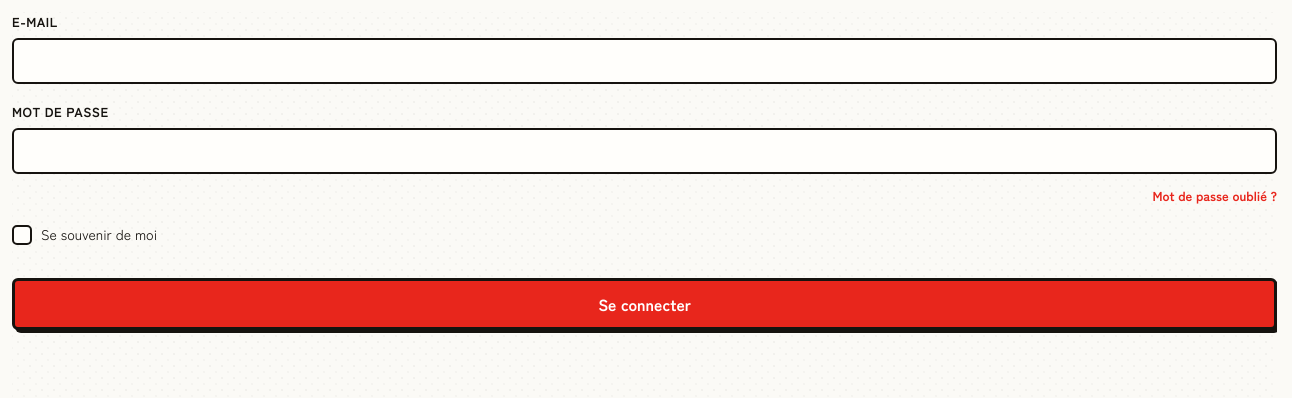
it: LoginForm › shows French validation errors on empty submit
This screenshot has width=1292, height=398.
Click the button "Se connecter" at {"x": 644, "y": 304}, box [12,278,1277,330]
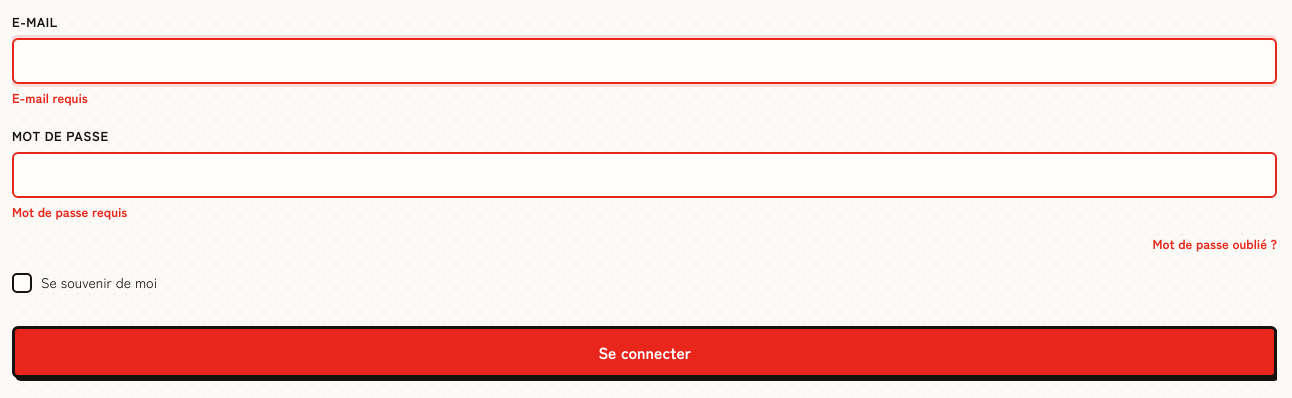
Check: the text "E-mail requis" is shown, box [12,88,88,107]
Check: the text "Mot de passe requis" is shown, box [12,202,127,221]
